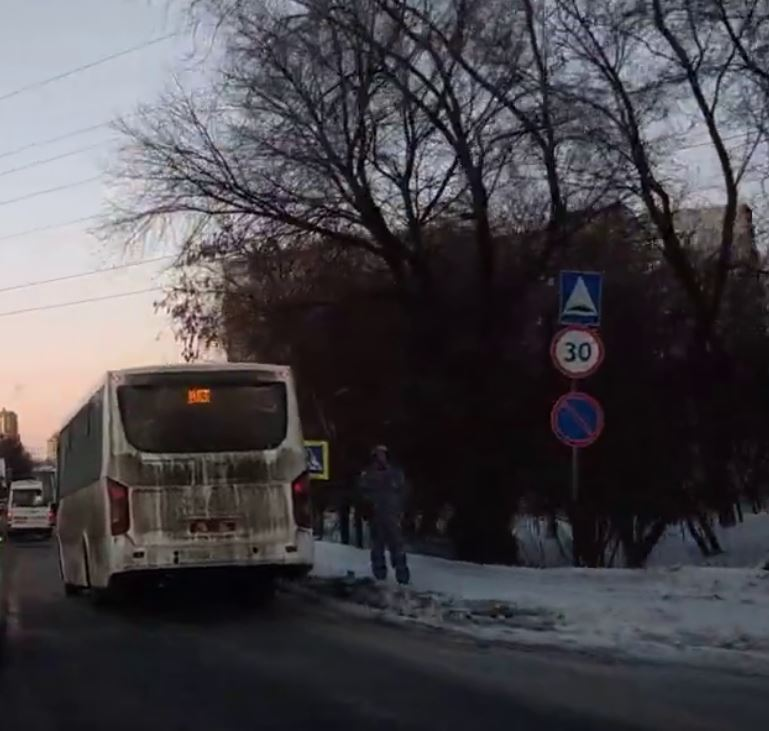30 Km Hiz Siniri: (549, 329, 609, 383)
